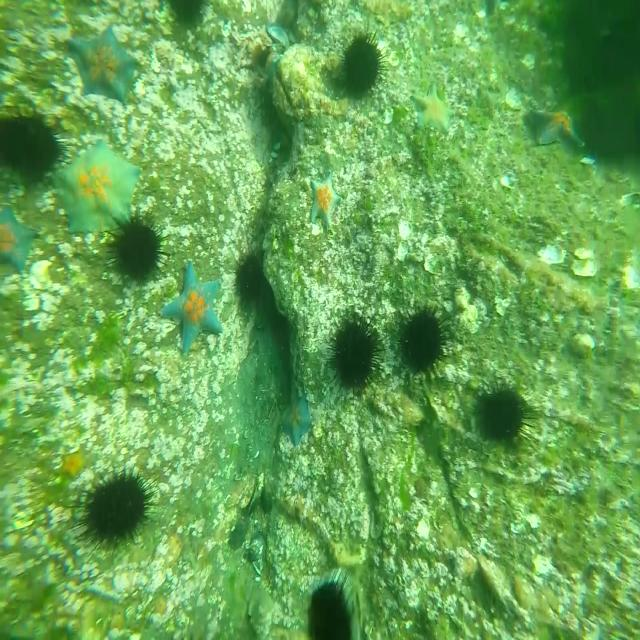echinus: (72, 468, 158, 553), (1, 105, 68, 182), (328, 306, 384, 397), (108, 211, 169, 290), (478, 374, 531, 450), (300, 574, 358, 640), (398, 302, 447, 378), (337, 31, 390, 98), (233, 250, 266, 303)
starfish: (52, 145, 140, 232), (162, 260, 224, 354), (65, 25, 140, 102), (533, 97, 587, 159), (0, 199, 37, 282), (411, 82, 458, 138), (306, 175, 342, 230), (280, 398, 312, 448)
